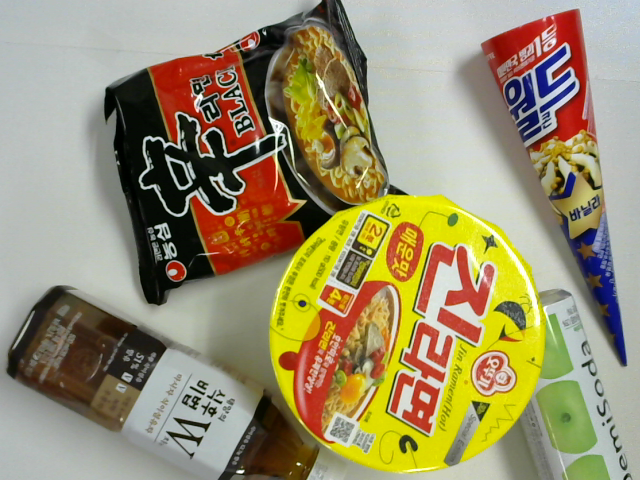Demisoda_Apple_Can_250ml: (497, 292, 637, 480)
Jinlamyeon_Hot_Taste_Large_Cup: (271, 202, 544, 467)
Post-meal_recipe_W_tea_500ml: (6, 286, 350, 480)
Sinramen_Black: (107, 1, 369, 301)
World_Cone_Banila: (482, 9, 633, 366)
